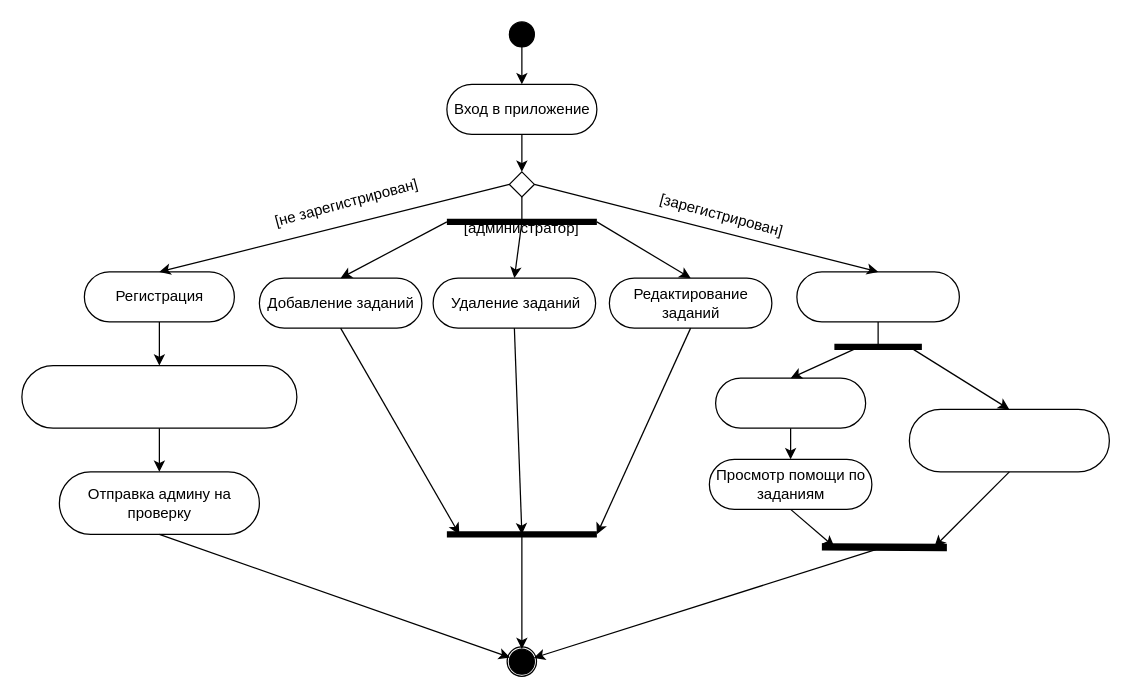
This 1131x699 diagram has some shape labels left out. Here are the shapes that lost their labels. From the top down, the centre of each, then its label:
the point at 877,296: Ввод логина и пароля
the point at 159,396: Заполнение регистрационной формы
the point at 790,402: Просмотр заданий
the point at 1008,440: Просмотр выполненных заданий
